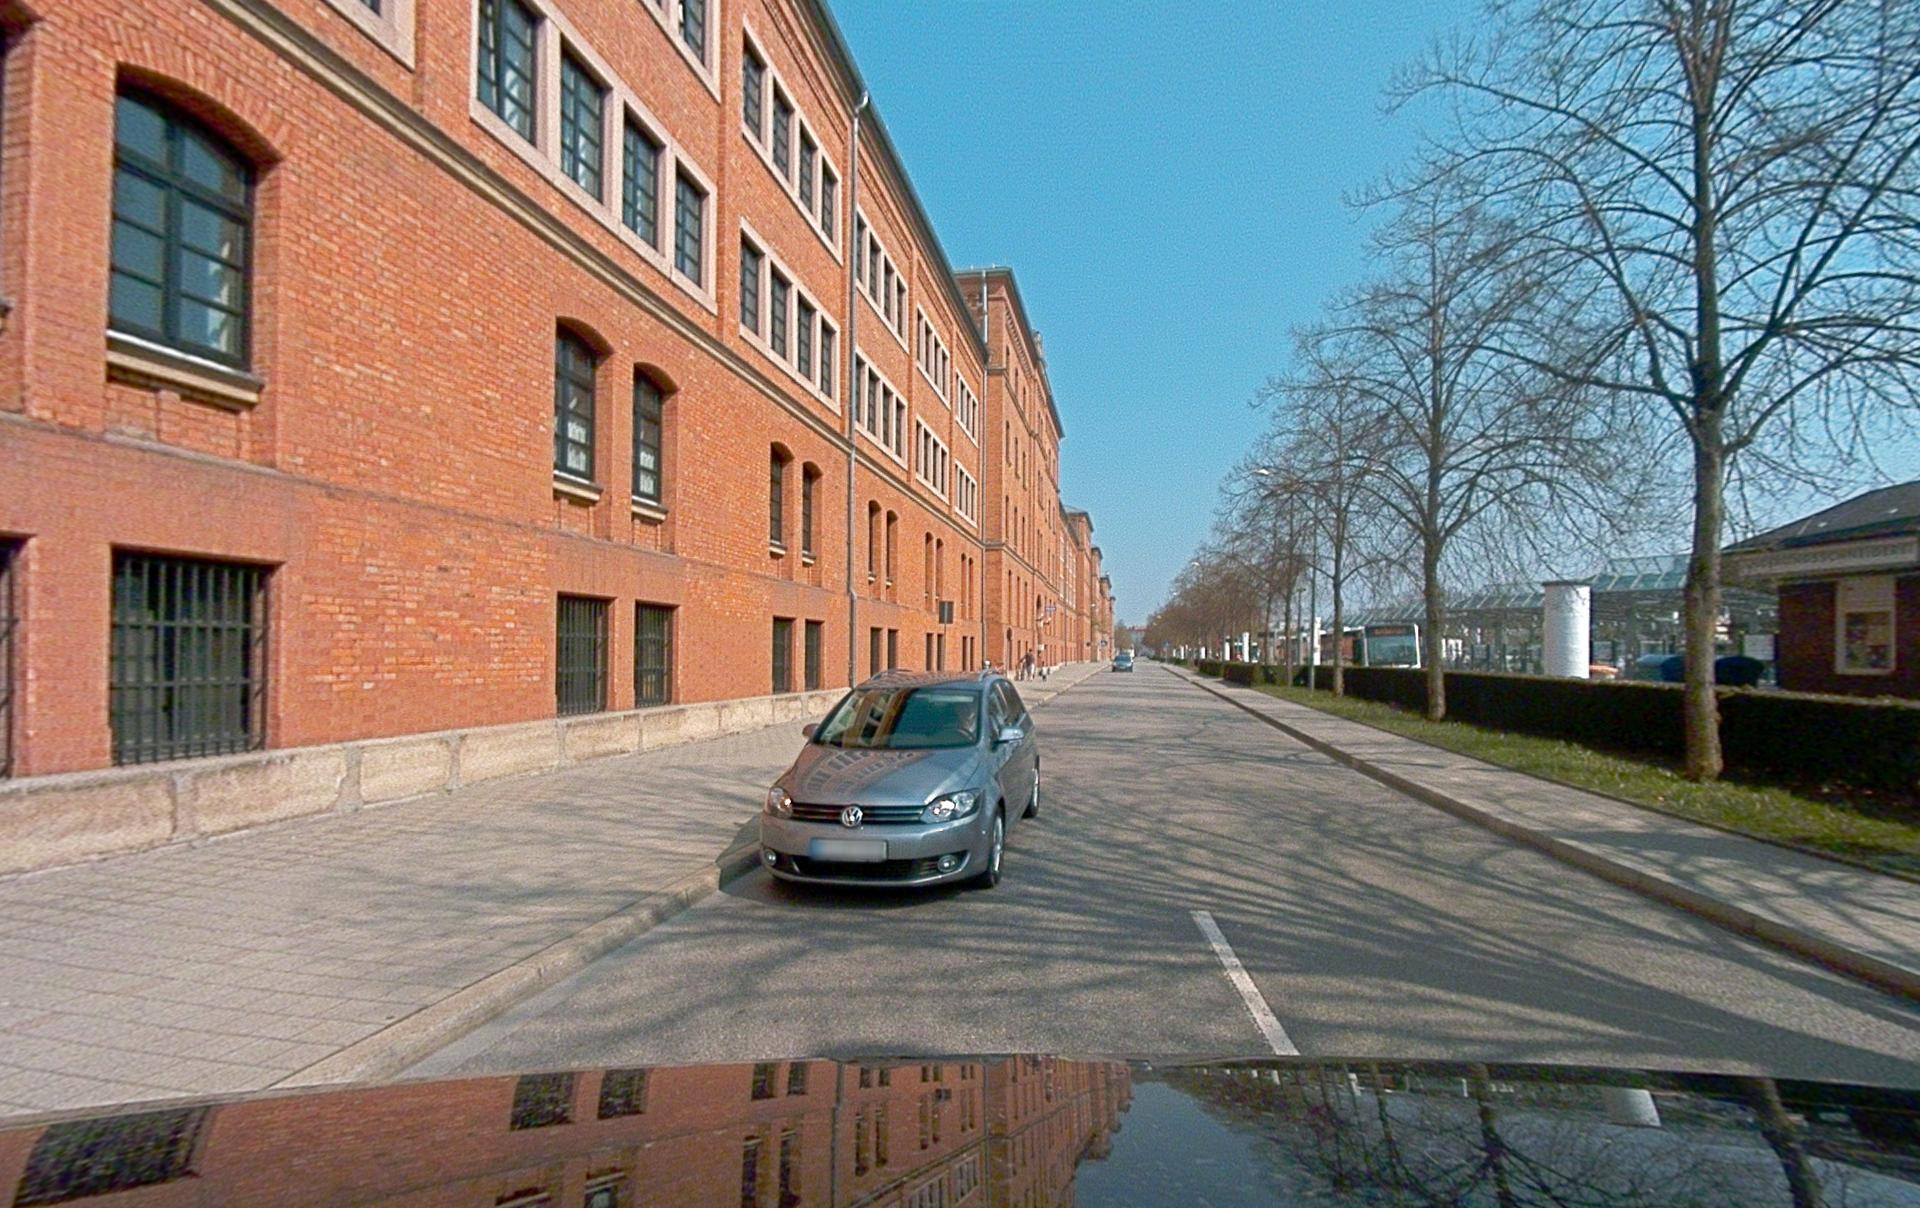car: (760, 668, 1041, 892), (1112, 653, 1133, 672)
